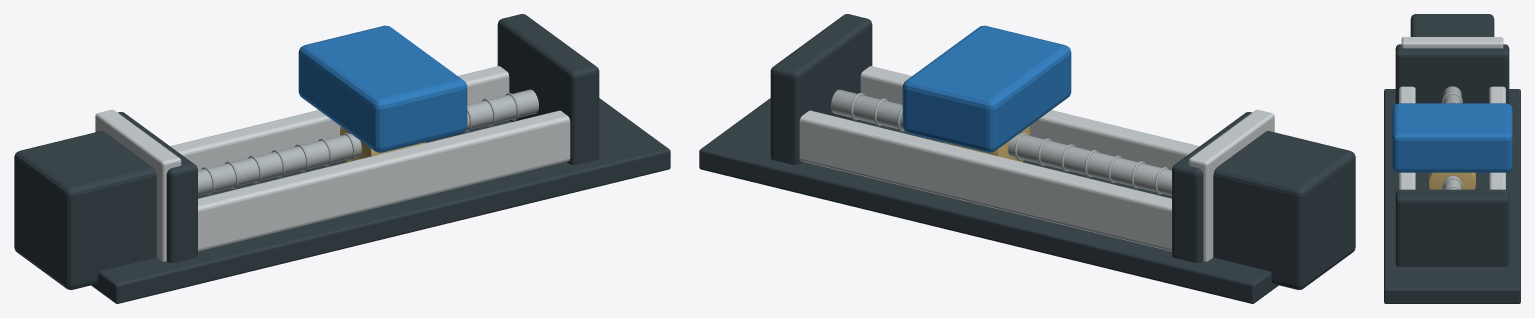
Rendered from ball_screw_linear_actuator.glb.
The picture shows the model from 3 angles, left to right: view 1: azimuth 30°, elevation 25°; view 2: azimuth 150°, elevation 25°; view 3: azimuth 270°, elevation 25°; orthographic projection. The views are drawn at different scales.
Parts seen in each view (by area): view 1: BASE, SIDE_RAIL_-0.27, SERVO_FRAME, KIN_BALL_NUT_CARRIAGE, END_SUPPORT_1.03, SIDE_RAIL_0.27, BALL_SCREW, END_SUPPORT_-1.03, SERVO_FLANGE; view 2: BASE, SIDE_RAIL_0.27, SERVO_FRAME, KIN_BALL_NUT_CARRIAGE, END_SUPPORT_1.03, SIDE_RAIL_-0.27, BALL_SCREW, END_SUPPORT_-1.03, SERVO_FLANGE; view 3: BASE, END_SUPPORT_1.03, KIN_BALL_NUT_CARRIAGE, END_SUPPORT_-1.03, SERVO_FRAME, SERVO_FLANGE, BALL_NUT, SIDE_RAIL_0.27, SIDE_RAIL_-0.27, BALL_SCREW.
Boxes of the visible parts, left/top/right/bottom form: BASE: left=91, top=98, right=670, bottom=303; SIDE_RAIL_-0.27: left=198, top=110, right=570, bottom=251; SERVO_FRAME: left=14, top=131, right=156, bottom=289; KIN_BALL_NUT_CARRIAGE: left=298, top=25, right=467, bottom=152; END_SUPPORT_1.03: left=497, top=14, right=599, bottom=164; SIDE_RAIL_0.27: left=170, top=66, right=509, bottom=170; BALL_SCREW: left=198, top=89, right=538, bottom=195; END_SUPPORT_-1.03: left=117, top=112, right=197, bottom=262; SERVO_FLANGE: left=95, top=109, right=181, bottom=261; BASE: left=699, top=98, right=1278, bottom=303; SIDE_RAIL_0.27: left=799, top=110, right=1171, bottom=251; SERVO_FRAME: left=1213, top=131, right=1355, bottom=289; KIN_BALL_NUT_CARRIAGE: left=902, top=25, right=1071, bottom=152; END_SUPPORT_1.03: left=770, top=14, right=872, bottom=164; SIDE_RAIL_-0.27: left=860, top=66, right=1199, bottom=170; BALL_SCREW: left=831, top=89, right=1171, bottom=195; END_SUPPORT_-1.03: left=1172, top=112, right=1252, bottom=262; SERVO_FLANGE: left=1188, top=109, right=1274, bottom=261; BASE: left=1384, top=89, right=1520, bottom=303; END_SUPPORT_1.03: left=1395, top=189, right=1509, bottom=266; KIN_BALL_NUT_CARRIAGE: left=1392, top=103, right=1512, bottom=172; END_SUPPORT_-1.03: left=1395, top=44, right=1509, bottom=103; SERVO_FRAME: left=1410, top=14, right=1494, bottom=36; SERVO_FLANGE: left=1401, top=37, right=1503, bottom=48; BALL_NUT: left=1429, top=172, right=1475, bottom=189; SIDE_RAIL_0.27: left=1489, top=86, right=1505, bottom=189; SIDE_RAIL_-0.27: left=1399, top=86, right=1415, bottom=189; BALL_SCREW: left=1443, top=86, right=1461, bottom=189.
Bounding box in the file's own units: 3 × 0.675 × 0.82.
